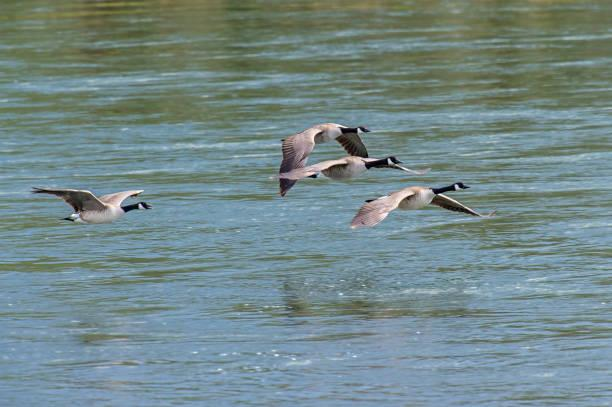Canadian-Goose: (356, 181, 500, 233), (27, 178, 149, 230), (261, 158, 431, 181), (273, 119, 365, 160)
